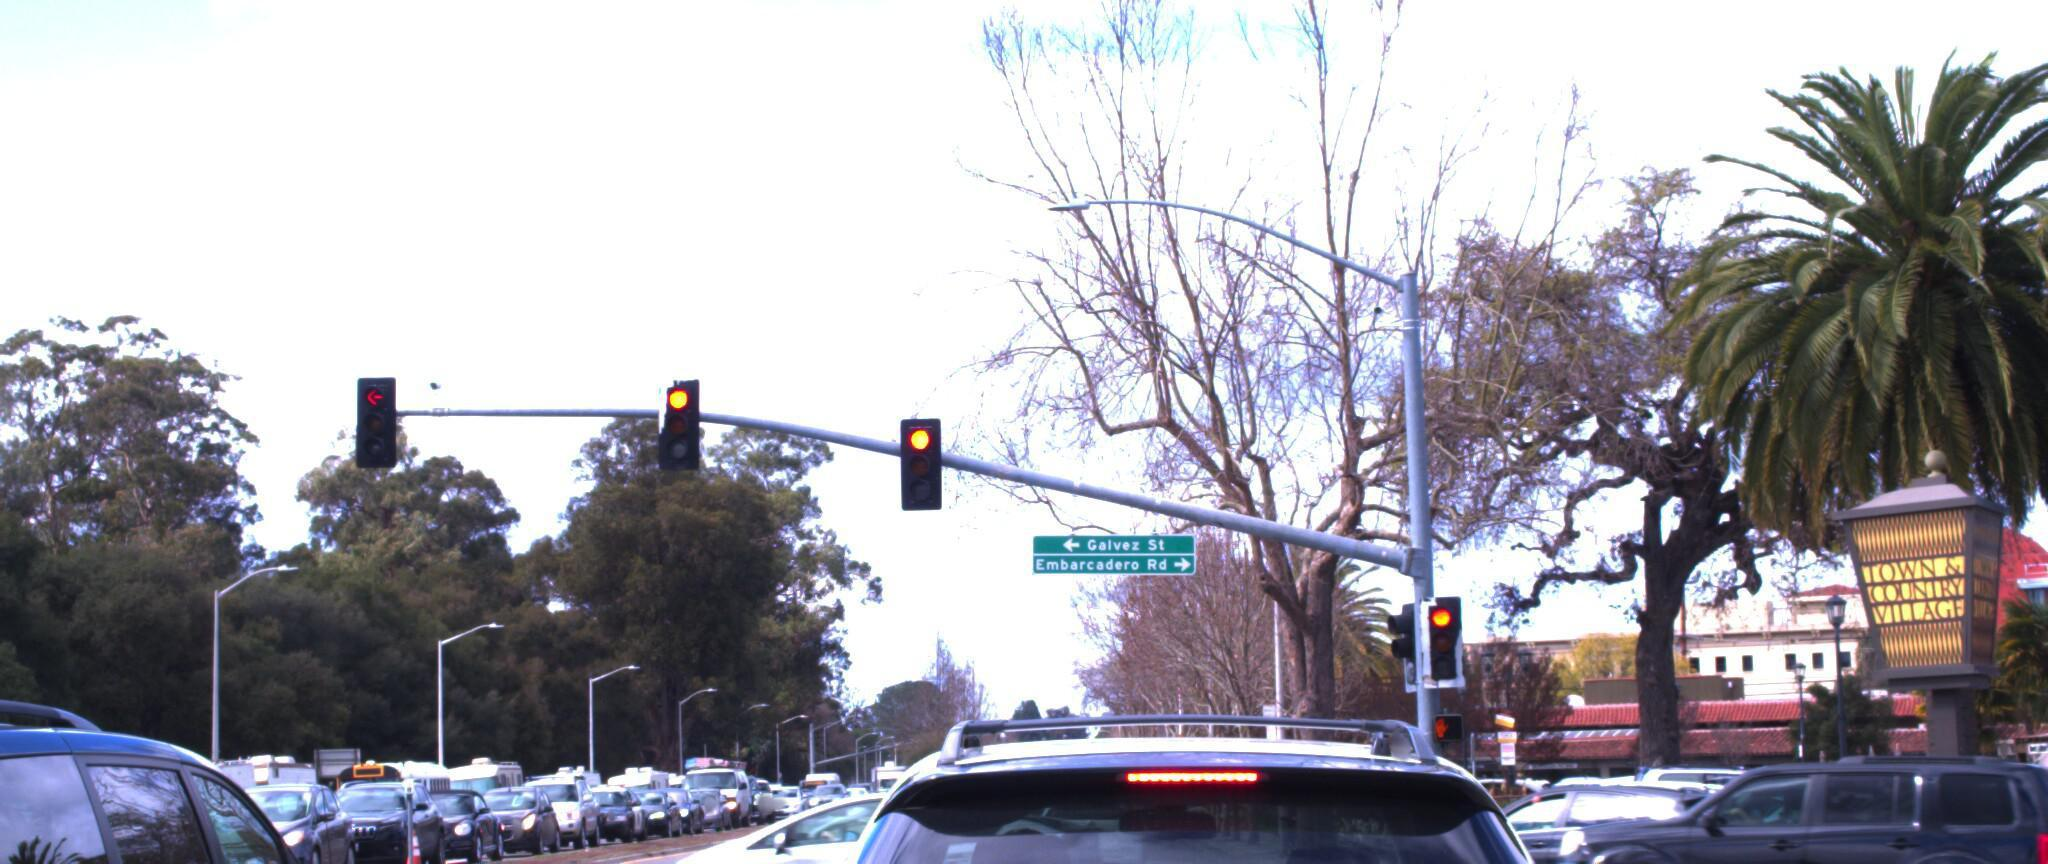car: (680, 680, 1729, 864), (0, 680, 445, 864), (1480, 733, 2048, 864), (588, 766, 1081, 864), (1294, 773, 1689, 864), (191, 764, 371, 864), (1017, 747, 1166, 864), (296, 764, 456, 859), (380, 775, 519, 850), (509, 748, 620, 827)
other_vehicle: (0, 701, 98, 855)
